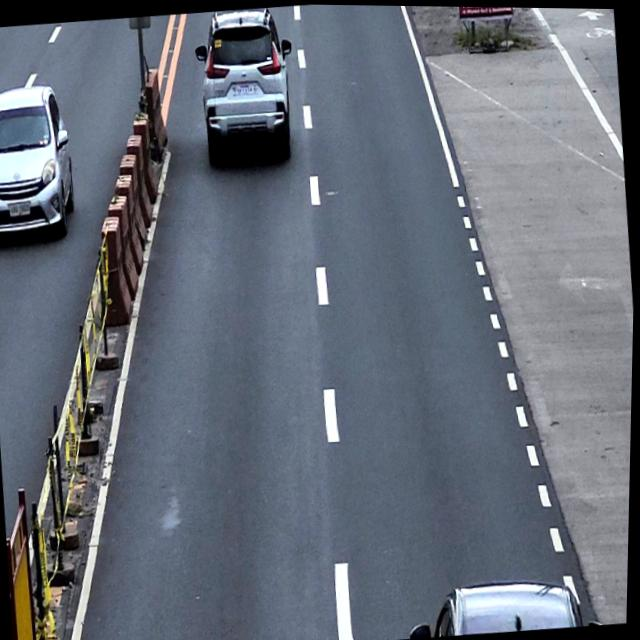Car: (188, 4, 304, 172), (404, 565, 608, 640), (0, 81, 83, 247)
License-Plate: (7, 200, 33, 218), (231, 81, 258, 95)
